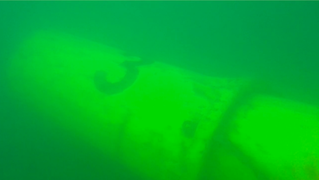3: (93, 52, 156, 94)
pipe: (6, 29, 319, 180)
